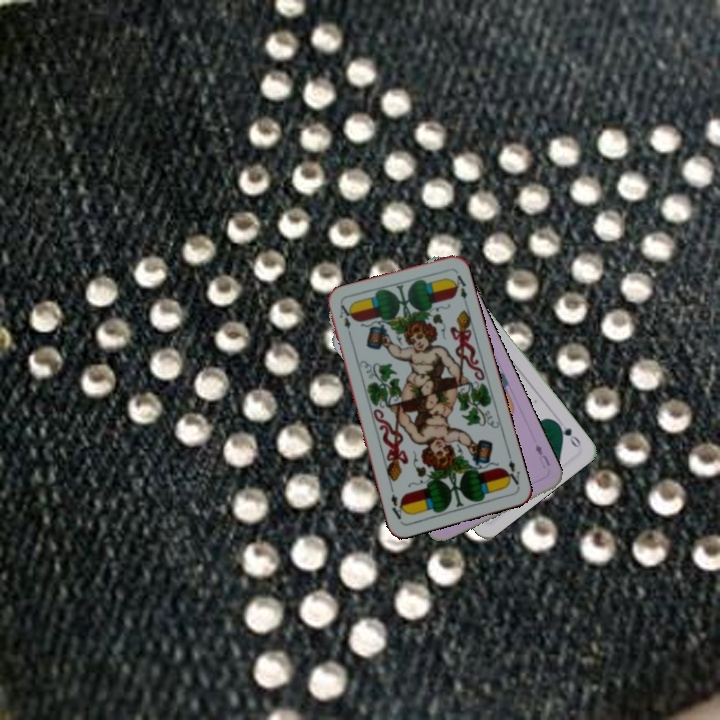EA: (501, 449, 522, 489), (335, 300, 354, 341)
EU: (531, 440, 552, 471)
GO: (552, 418, 584, 451)
